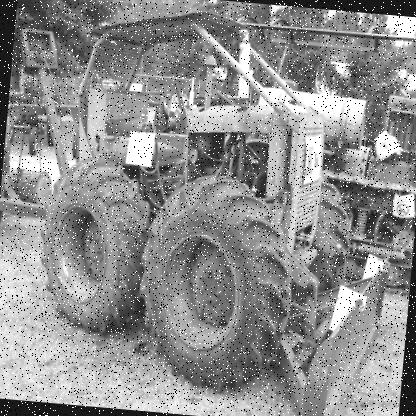Car: (147, 90, 161, 112), (170, 90, 186, 109)
